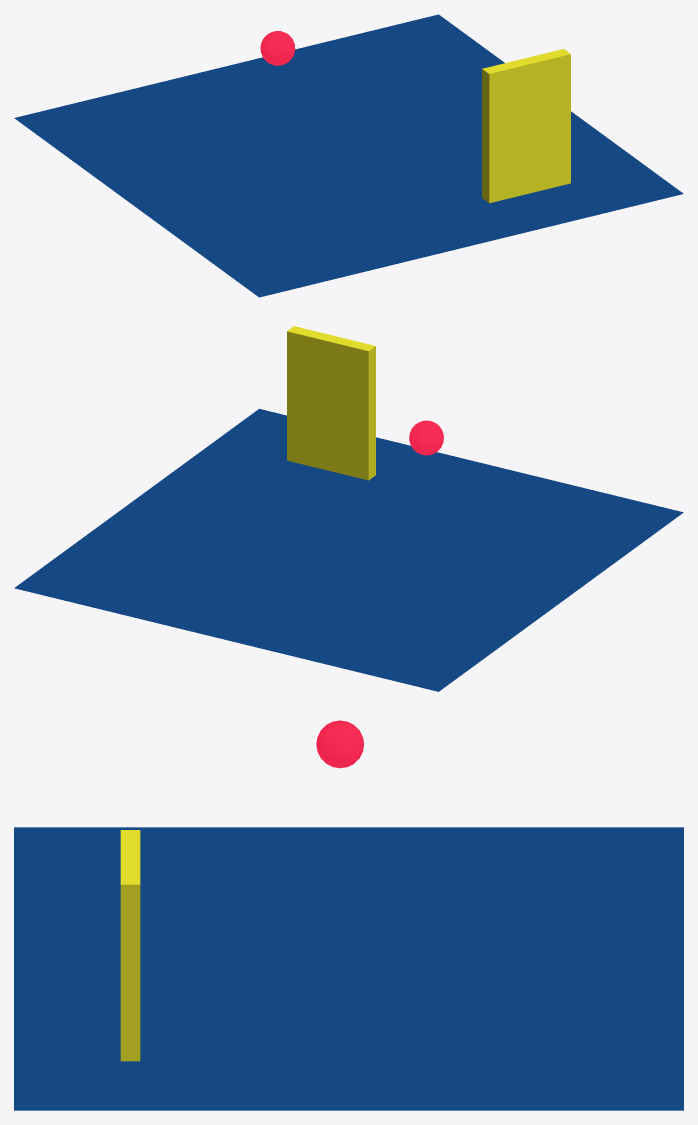
The model's file is BloomStreaksTest0.FBX.
3 views of the same model, one above another, from view 1: azimuth 30°, elevation 25°; view 2: azimuth 150°, elevation 25°; view 3: azimuth 270°, elevation 25° (orthographic). The views are drawn at different scales.
Parts seen in each view (by area): view 1: Plane001, Box001, GeoSphere001; view 2: Plane001, Box001, GeoSphere001; view 3: Plane001, Box001, GeoSphere001.
Part boxes in pixels (x1,y1,x2,y2): Plane001: (14,14,683,297); Box001: (482,49,570,203); GeoSphere001: (260,31,295,65); Plane001: (14,408,683,691); Box001: (287,326,375,480); GeoSphere001: (409,420,443,455); Plane001: (14,827,683,1110); Box001: (120,830,140,1061); GeoSphere001: (316,720,363,768).
Size of the model in its own units: 10 by 10 by 3.24.
